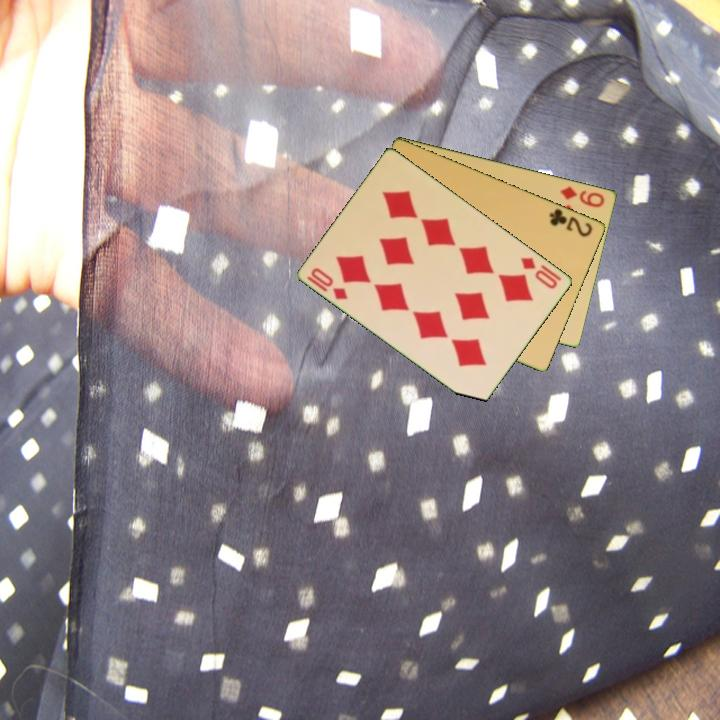10d: (303, 264, 351, 303), (517, 254, 561, 292)
2c: (546, 205, 596, 240)
9d: (557, 183, 608, 210)
